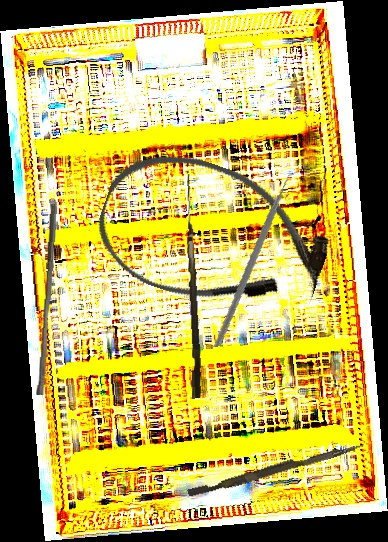Cannula: (84, 134, 343, 337)
Chopper: (188, 171, 331, 348)
Hook Surgical: (176, 174, 206, 399)
Pusher: (187, 436, 365, 502), (36, 203, 58, 396)
